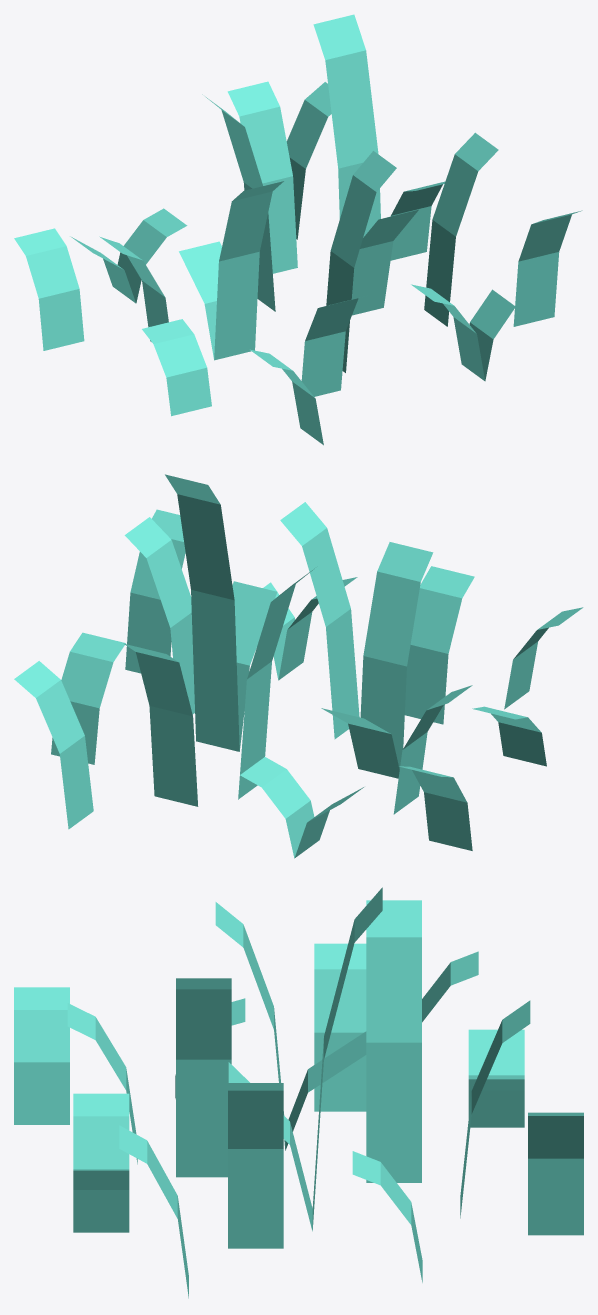
Rendered from grass_large.glb.
The picture shows the model from 3 angles, top to bottom: view 1: azimuth 30°, elevation 25°; view 2: azimuth 150°, elevation 25°; view 3: azimuth 270°, elevation 25°; orthographic projection. The views are drawn at different scales.
Parts seen in each view (by area): view 1: grass_large; view 2: grass_large; view 3: grass_large.
Part boxes in pixels (<box>): grass_large: <box>14,14,582,445</box>; grass_large: <box>14,474,583,858</box>; grass_large: <box>14,887,583,1298</box>.
Bounding box in the file's own units: 0.409 × 0.254 × 0.4079.
